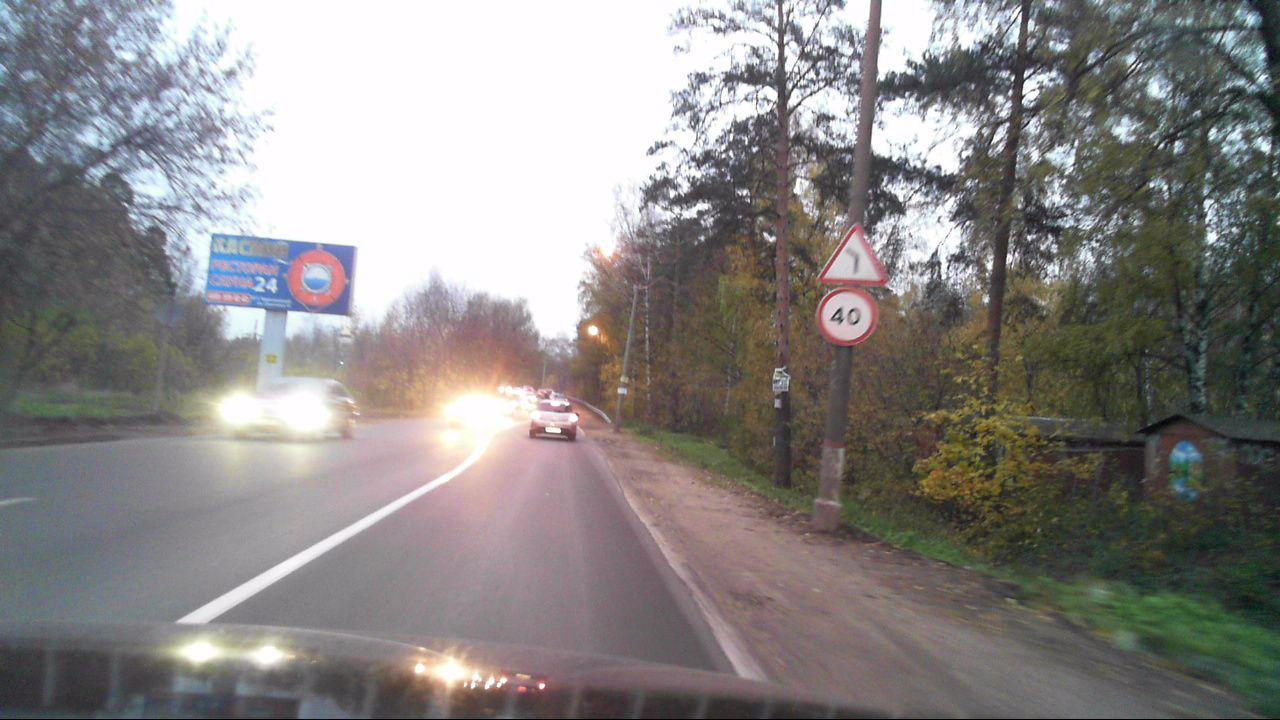speed_warning_40: (817, 288, 877, 344)
